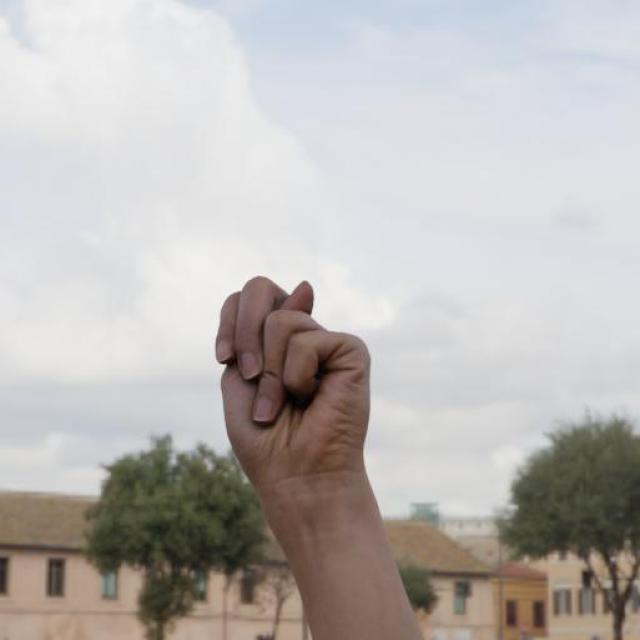N: (207, 273, 379, 493)
